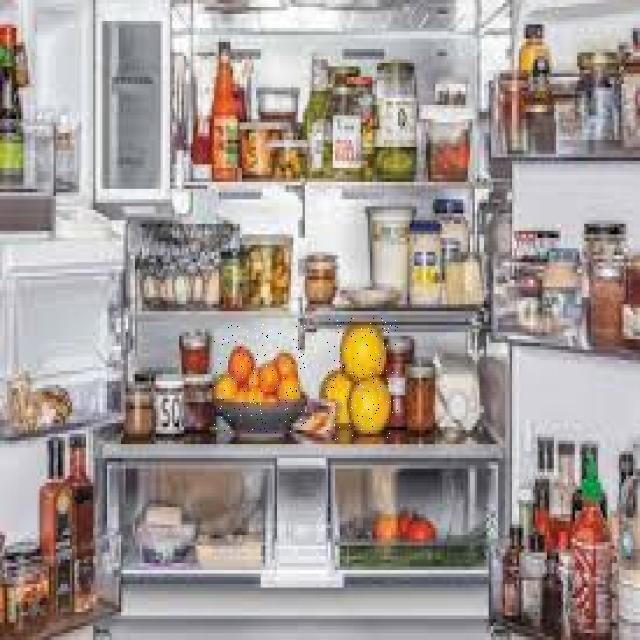lemons: (326, 318, 398, 440)
tomatoes: (214, 324, 308, 433)
